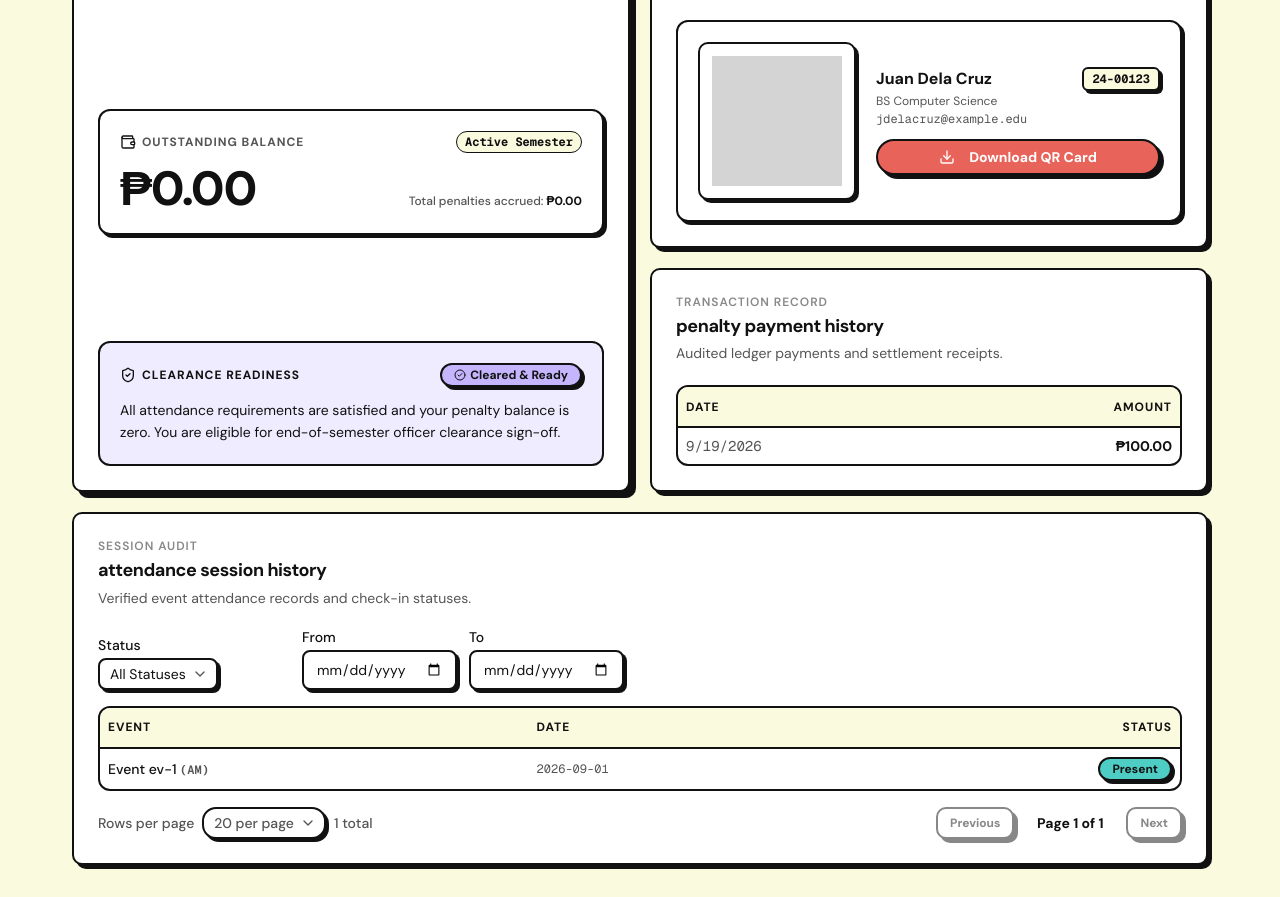
Test: MyAttendanceView session audit filter + pagination (Issue #219) › shows clear messaging when no session matches the active filters
(page scrolled)
Click the dropdown named "filter by status" at (158, 674), box [98,658,218,690]
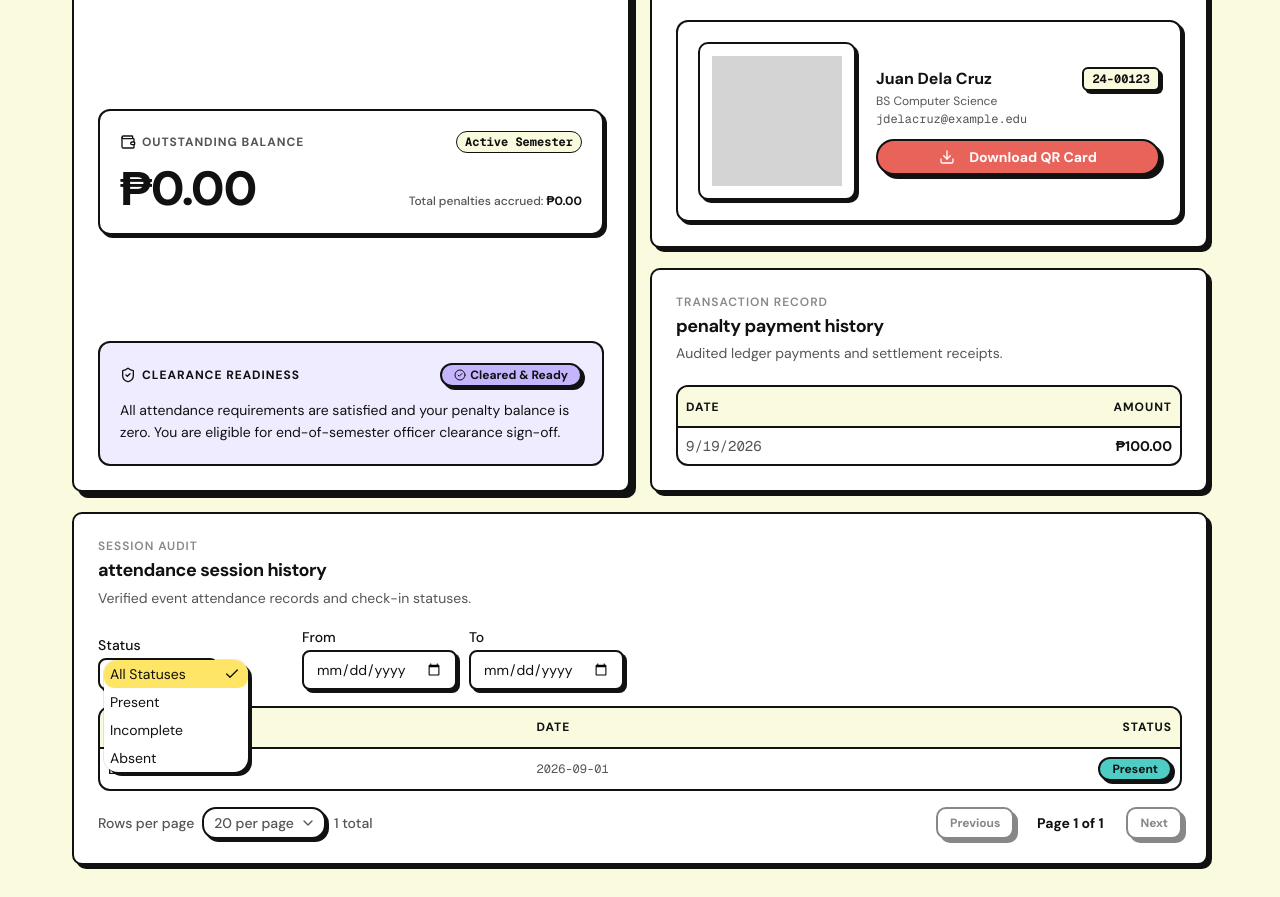
Click the option "Absent" at (133, 758), box [110,748,157,766]
(page scrolled)
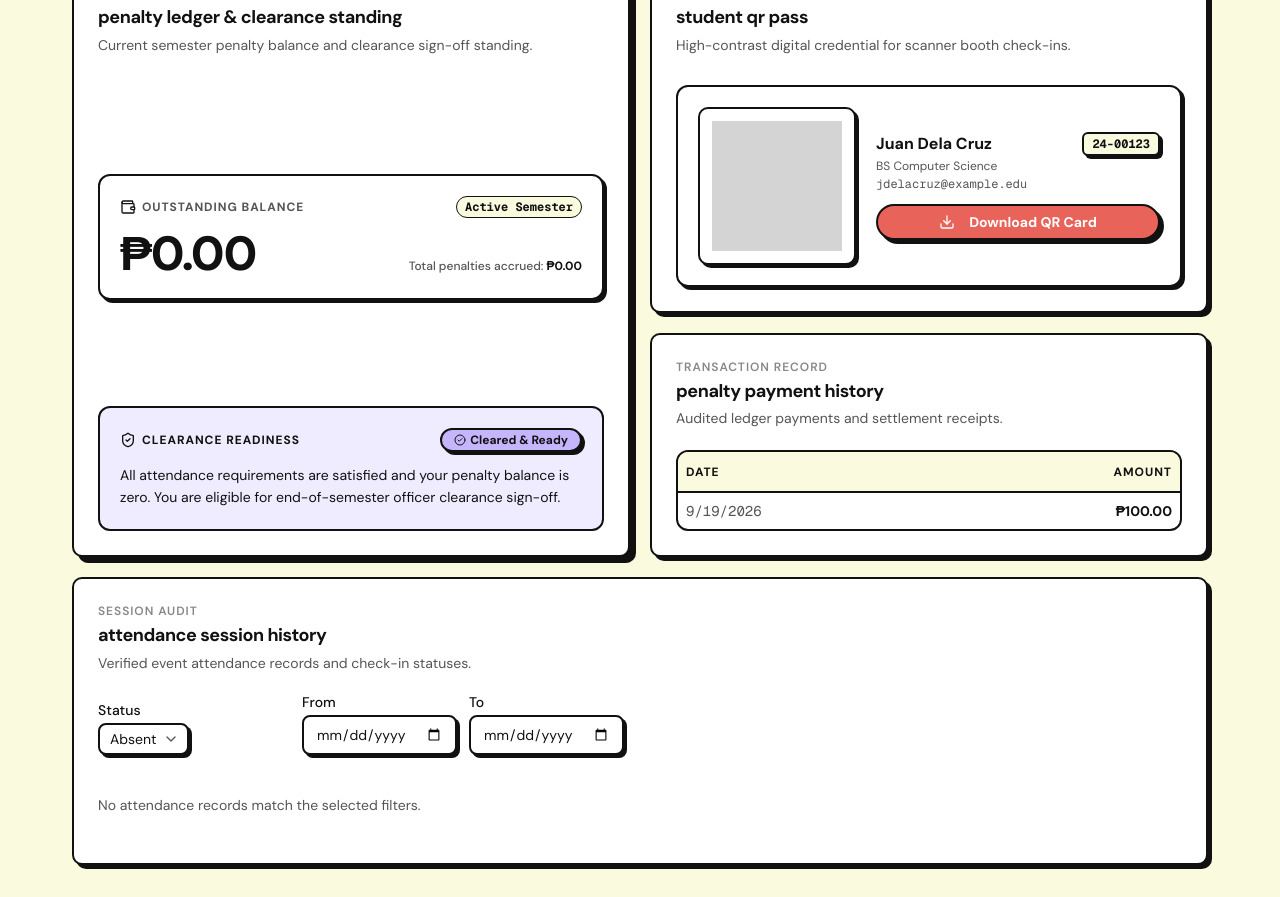
Now the text "No attendance records match the selected filters." is shown, box [98,796,421,814]
